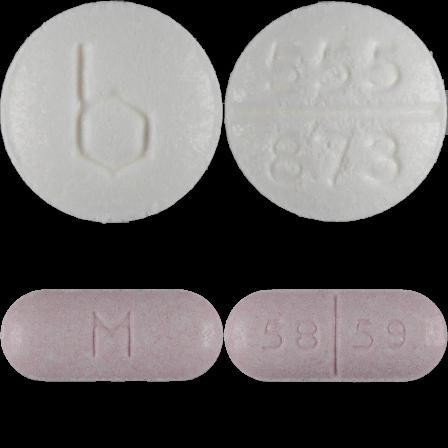10544-001: (0, 0, 224, 224)
